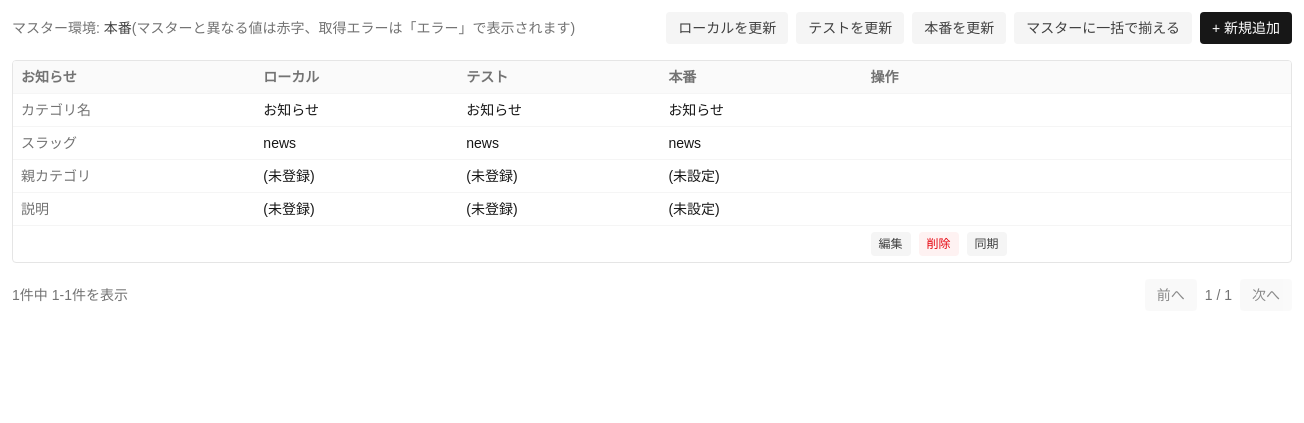
Test: TermComparisonTable(マウント前) › マウント前は新規追加フォームの送信ボタンを押せない(issue #1414)
Click the button "+ 新規追加" at (1246, 28), box [1200,12,1292,44]
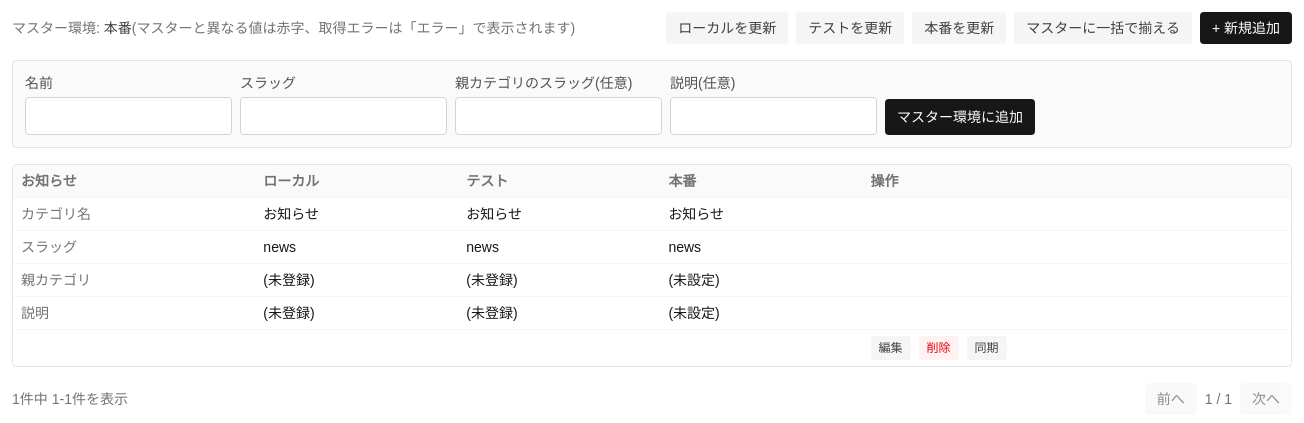
Expected: the button "マスター環境に追加" is enabled, [885,99,1035,135]
